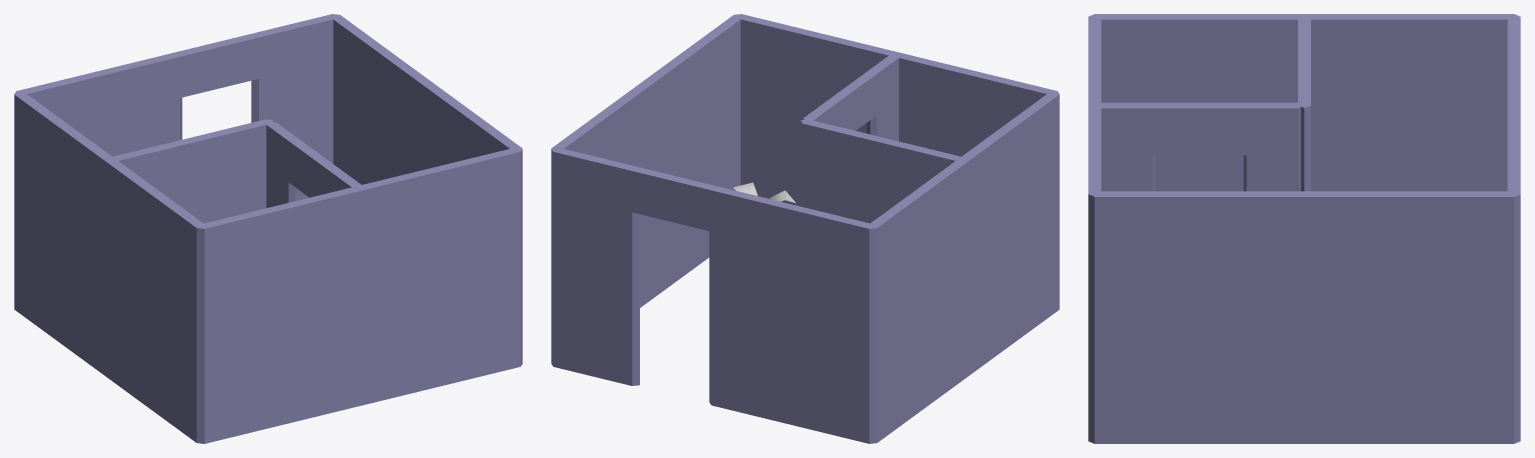
The model's file is Section1_3.obj.
The picture shows the model from 3 angles, left to right: view 1: azimuth 30°, elevation 25°; view 2: azimuth 150°, elevation 25°; view 3: azimuth 270°, elevation 25°; orthographic projection. The views are drawn at different scales.
Visible parts, largest first — view 1: mergedBlocks; view 2: mergedBlocks; view 3: mergedBlocks.
Boxes of the visible parts, bbox=[...] form: mergedBlocks: bbox=[14, 14, 522, 443]; mergedBlocks: bbox=[551, 14, 1059, 443]; mergedBlocks: bbox=[1088, 14, 1520, 443].
Bounding box in the file's own units: 4.13 × 2.6 × 4.13.
